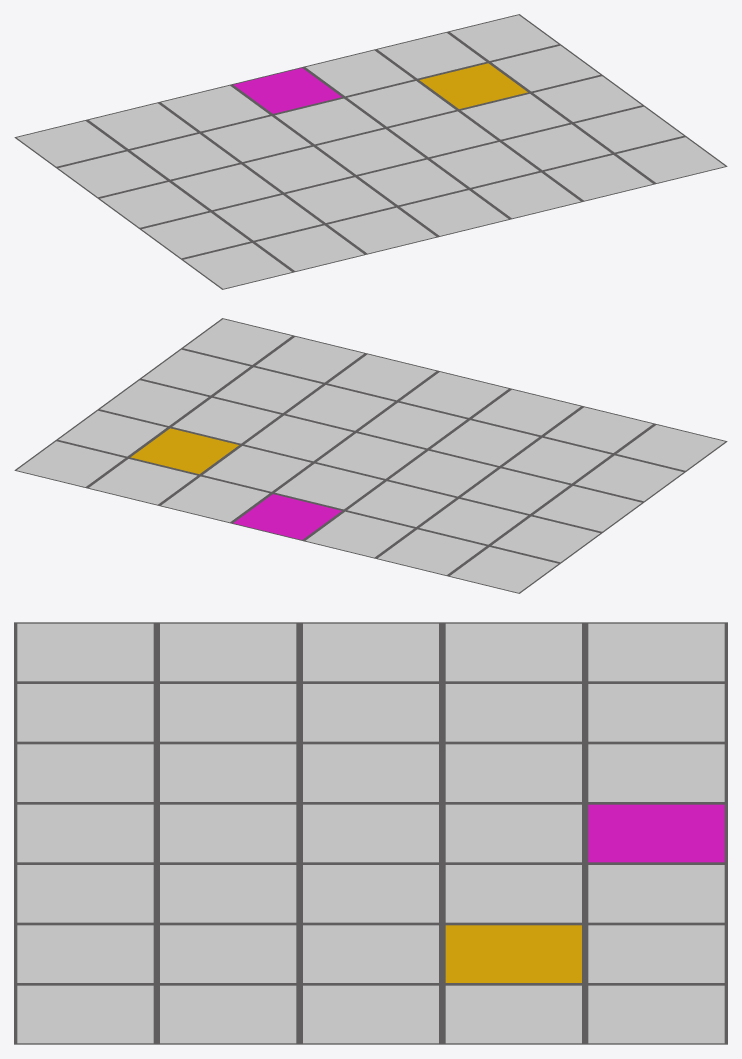
The picture shows the model from 3 angles, top to bottom: view 1: azimuth 30°, elevation 25°; view 2: azimuth 150°, elevation 25°; view 3: azimuth 270°, elevation 25°; orthographic projection. The views are drawn at different scales.
Parts seen in each view (by area): view 1: Plane.001; view 2: Plane.001; view 3: Plane.001.
Boxes of the visible parts, box(x1,y1,x2,y2) form: Plane.001: box(14, 14, 727, 289); Plane.001: box(14, 318, 727, 593); Plane.001: box(14, 622, 727, 1044).
Size of the model in its own units: 1074 by 4.69e-05 by 767.
